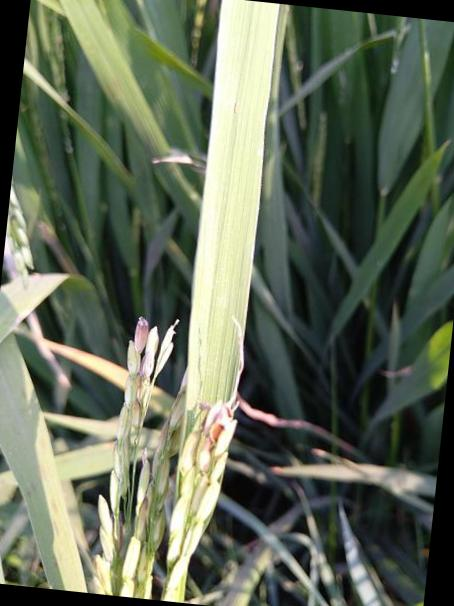Leaf Streak: (43, 341, 129, 389), (150, 387, 175, 417)
Panicle Blight: (115, 317, 177, 441), (133, 434, 172, 600), (187, 399, 238, 514)
